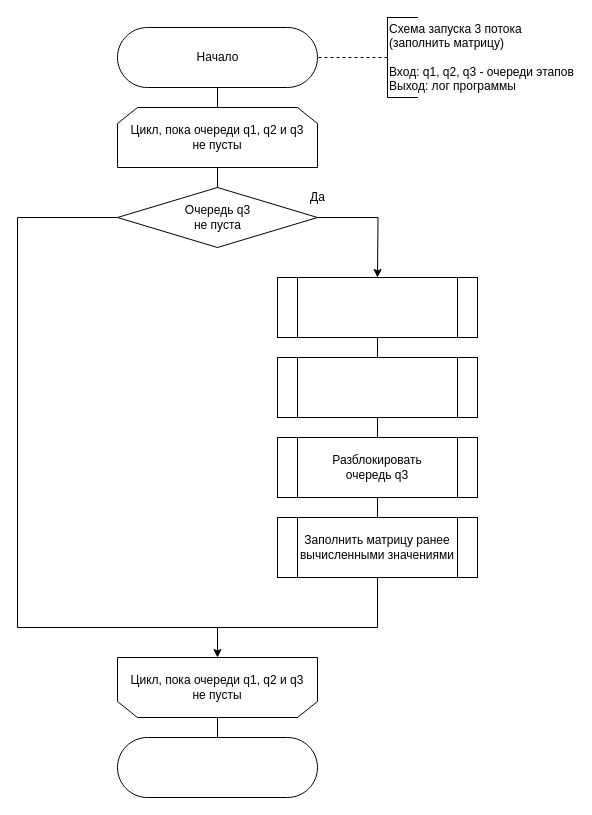
Image size: 592x815. Some labels were removed from this diagram. Here are the shapes that lost their labels. From the top down, the centre of each, then its label:
At point 377,307: "Заблокировать очередь q3".
At point 377,387: "Получить матрицу из очереди q3".
At point 217,767: "Конец".
